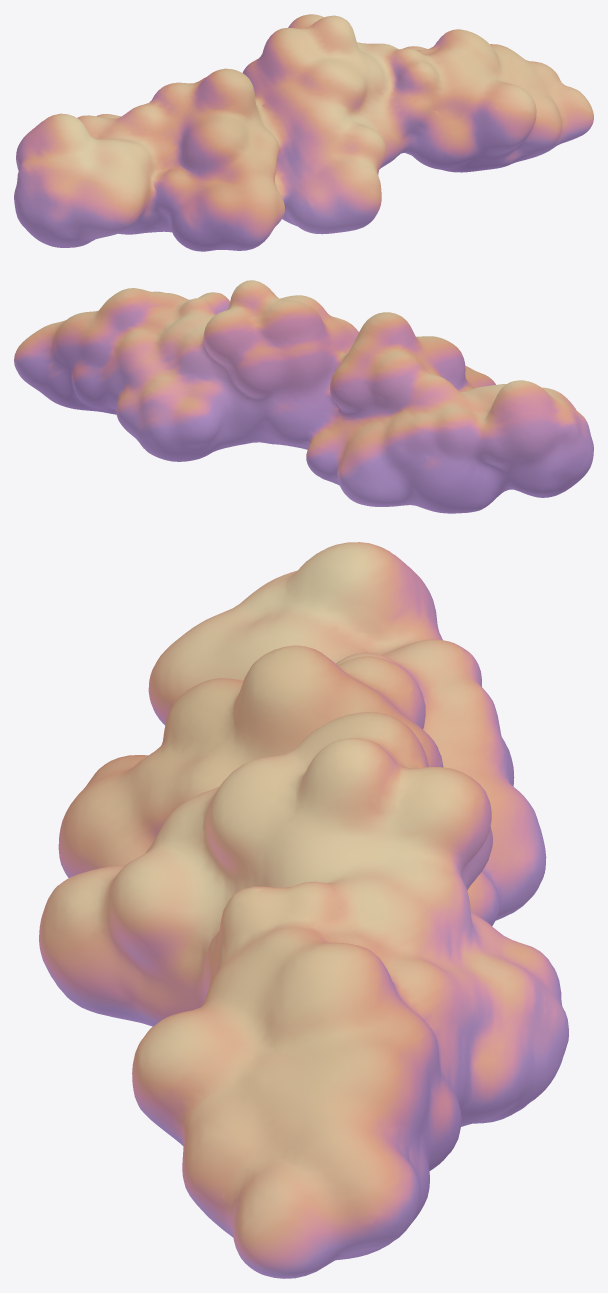
Rendered from nube3.glb.
3 renders of one model, top to bottom at view 1: azimuth 30°, elevation 25°; view 2: azimuth 150°, elevation 25°; view 3: azimuth 270°, elevation 25°, orthographic. The views are drawn at different scales.
Visible parts, largest first — view 1: nube_02_ancha_baja; view 2: nube_02_ancha_baja; view 3: nube_02_ancha_baja.
Boxes of the visible parts, x1,y1,x2,y2 form: nube_02_ancha_baja: (14, 14, 593, 251); nube_02_ancha_baja: (14, 280, 593, 513); nube_02_ancha_baja: (39, 542, 568, 1278).
Bounding box in the file's own units: 4 × 1.13 × 1.63.
